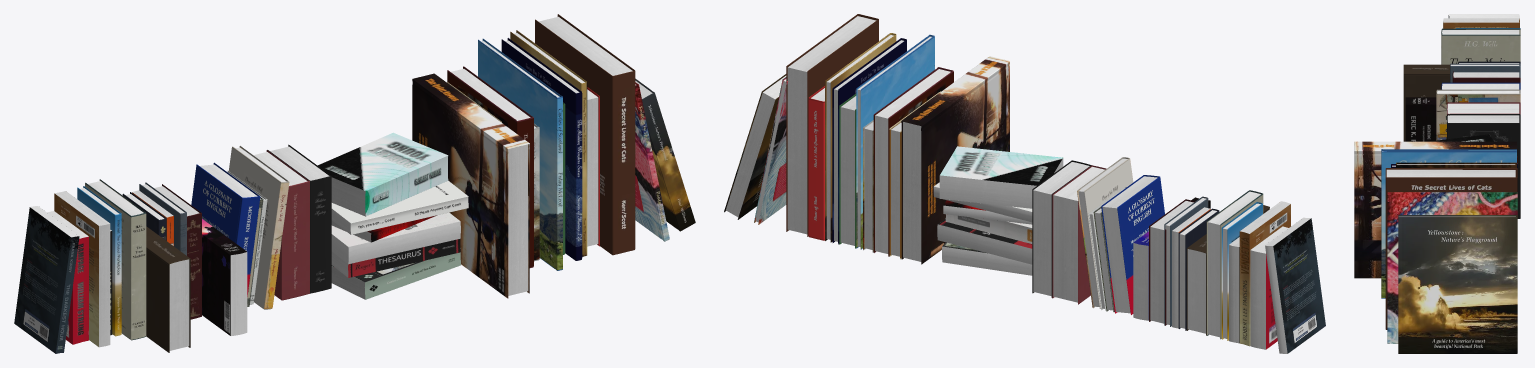
Rendered from Books-transformed.glb.
3 renders of one model, left to right at view 1: azimuth 30°, elevation 25°; view 2: azimuth 150°, elevation 25°; view 3: azimuth 270°, elevation 25°, orthographic. The views are drawn at different scales.
Visible parts, largest first — view 1: EvB1_Hbacks1.Shape_page_edges_0, EvB1Lbooks2.Shape_cover_0, EvB1Lbooks1.Shape_cover_0, EvB1_Pbacks2.Shape_cover_0, EvB1_Pbacks1.Shape_cover_0, EvB1_Hbacks2.Shape_cover_0, EvB1_Hbacks1.Shape_cover_0, EvB1_Hbacks1.Shape_cover_jacket_0, EvB1Lbooks1.Shape_cover_jacket2_0, EvB1Lbooks2.Shape_cover_jacket1_0, EvB1Lbooks1.Shape_cover_jacket1_0, EvB1Lbooks1.Shape_cover_inner_0 (+1 smaller); view 2: EvB1_Hbacks1.Shape_page_edges_0, EvB1Lbooks1.Shape_cover_0, EvB1_Pbacks1.Shape_cover_0, EvB1Lbooks2.Shape_cover_0, EvB1_Hbacks2.Shape_cover_0, EvB1_Pbacks2.Shape_cover_0, EvB1Lbooks1.Shape_cover_jacket2_0, EvB1_Hbacks1.Shape_cover_0, EvB1Lbooks1.Shape_cover_jacket1_0, EvB1Lbooks2.Shape_cover_jacket1_0, EvB1_Hbacks1.Shape_cover_jacket_0, EvB1Lbooks2.Shape_cover_inner_0 (+1 smaller); view 3: EvB1Lbooks2.Shape_cover_0, EvB1Lbooks1.Shape_cover_0, EvB1_Hbacks1.Shape_page_edges_0, EvB1_Hbacks1.Shape_cover_jacket_0, EvB1_Hbacks1.Shape_cover_0, EvB1_Hbacks2.Shape_cover_0, EvB1Lbooks1.Shape_cover_jacket2_0, EvB1_Pbacks1.Shape_cover_0, EvB1Lbooks1.Shape_cover_inner_0, EvB1Lbooks2.Shape_cover_inner_0, EvB1_Pbacks2.Shape_cover_0.
Part boxes in pixels (x1,y1,x2,y2): EvB1_Hbacks1.Shape_page_edges_0: (30, 16, 652, 350); EvB1Lbooks2.Shape_cover_0: (447, 14, 695, 267); EvB1Lbooks1.Shape_cover_0: (412, 30, 599, 298); EvB1_Pbacks2.Shape_cover_0: (317, 132, 468, 299); EvB1_Pbacks1.Shape_cover_0: (14, 192, 246, 353); EvB1_Hbacks2.Shape_cover_0: (77, 144, 331, 336); EvB1_Hbacks1.Shape_cover_0: (85, 146, 309, 352); EvB1_Hbacks1.Shape_cover_jacket_0: (85, 147, 289, 339); EvB1Lbooks1.Shape_cover_jacket2_0: (478, 40, 562, 270); EvB1Lbooks2.Shape_cover_jacket1_0: (447, 39, 582, 267); EvB1Lbooks1.Shape_cover_jacket1_0: (534, 89, 599, 260); EvB1Lbooks1.Shape_cover_inner_0: (447, 30, 599, 292); EvB1_Hbacks1.Shape_page_edges_0: (726, 16, 1311, 353); EvB1Lbooks1.Shape_cover_0: (808, 33, 1009, 264); EvB1_Pbacks1.Shape_cover_0: (1133, 197, 1325, 353); EvB1Lbooks2.Shape_cover_0: (724, 14, 953, 256); EvB1_Hbacks2.Shape_cover_0: (1032, 160, 1262, 340); EvB1_Pbacks2.Shape_cover_0: (934, 146, 1062, 253); EvB1Lbooks1.Shape_cover_jacket2_0: (856, 37, 934, 258); EvB1_Hbacks1.Shape_cover_0: (1052, 157, 1269, 339); EvB1Lbooks1.Shape_cover_jacket1_0: (808, 99, 873, 251); EvB1Lbooks2.Shape_cover_jacket1_0: (832, 41, 953, 255); EvB1_Hbacks1.Shape_cover_jacket_0: (1077, 159, 1263, 338); EvB1Lbooks2.Shape_cover_inner_0: (724, 14, 952, 252); EvB1Lbooks2.Shape_cover_0: (1385, 156, 1517, 353); EvB1Lbooks1.Shape_cover_0: (1354, 141, 1516, 298); EvB1_Hbacks1.Shape_page_edges_0: (1382, 14, 1519, 216); EvB1_Hbacks1.Shape_cover_jacket_0: (1436, 29, 1520, 140); EvB1_Hbacks1.Shape_cover_0: (1403, 28, 1520, 141); EvB1_Hbacks2.Shape_cover_0: (1441, 28, 1520, 218); EvB1Lbooks1.Shape_cover_jacket2_0: (1381, 150, 1516, 297); EvB1_Pbacks1.Shape_cover_0: (1405, 15, 1519, 141); EvB1Lbooks1.Shape_cover_inner_0: (1382, 149, 1516, 164); EvB1Lbooks2.Shape_cover_inner_0: (1386, 164, 1517, 216); EvB1_Pbacks2.Shape_cover_0: (1429, 134, 1493, 141).
Size of the model in its own units: 1.11 by 0.3102 by 0.3066.
13 materials, 13 textured.
